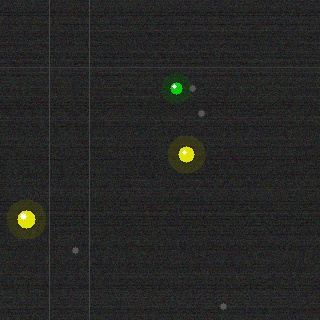green_normal: (168, 80, 184, 96)
yellow_warning: (15, 208, 37, 230), (176, 144, 196, 164)
